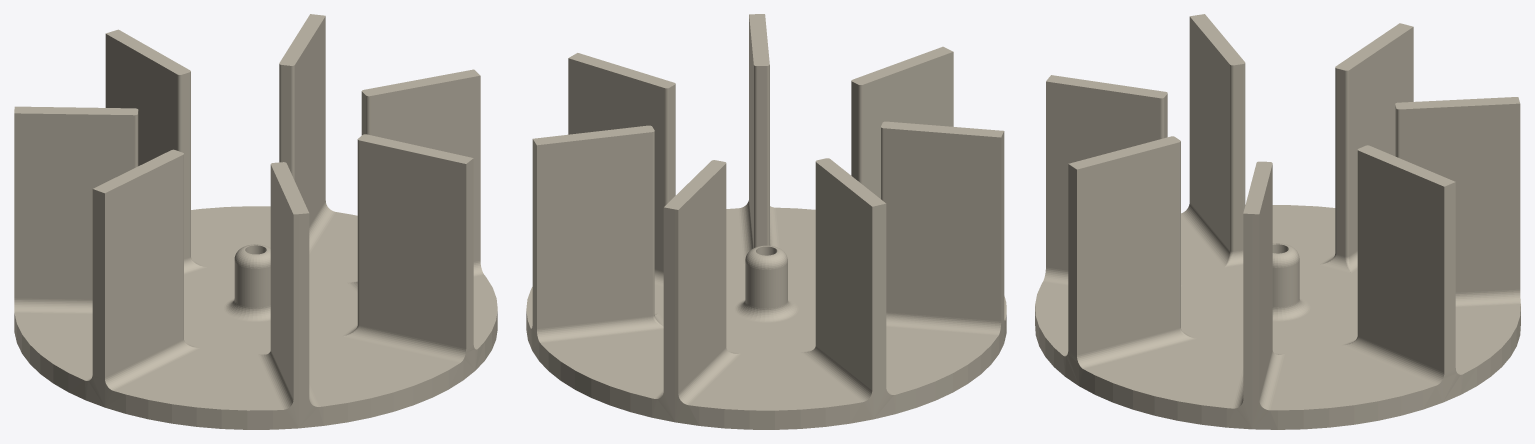
Rendered from lfr-straight-6-d45mm.glb.
3 renders of one model, left to right at view 1: azimuth 30°, elevation 25°; view 2: azimuth 150°, elevation 25°; view 3: azimuth 270°, elevation 25°, orthographic.
Visible parts, largest first — view 1: Straight 6_D45mm.STL; view 2: Straight 6_D45mm.STL; view 3: Straight 6_D45mm.STL.
Part boxes in pixels (x1=…): Straight 6_D45mm.STL: x1=14, y1=14, x2=497, y2=429; Straight 6_D45mm.STL: x1=526, y1=14, x2=1006, y2=429; Straight 6_D45mm.STL: x1=1035, y1=14, x2=1520, y2=429.
Size of the model in its own units: 0.045 by 0.022 by 0.045.
